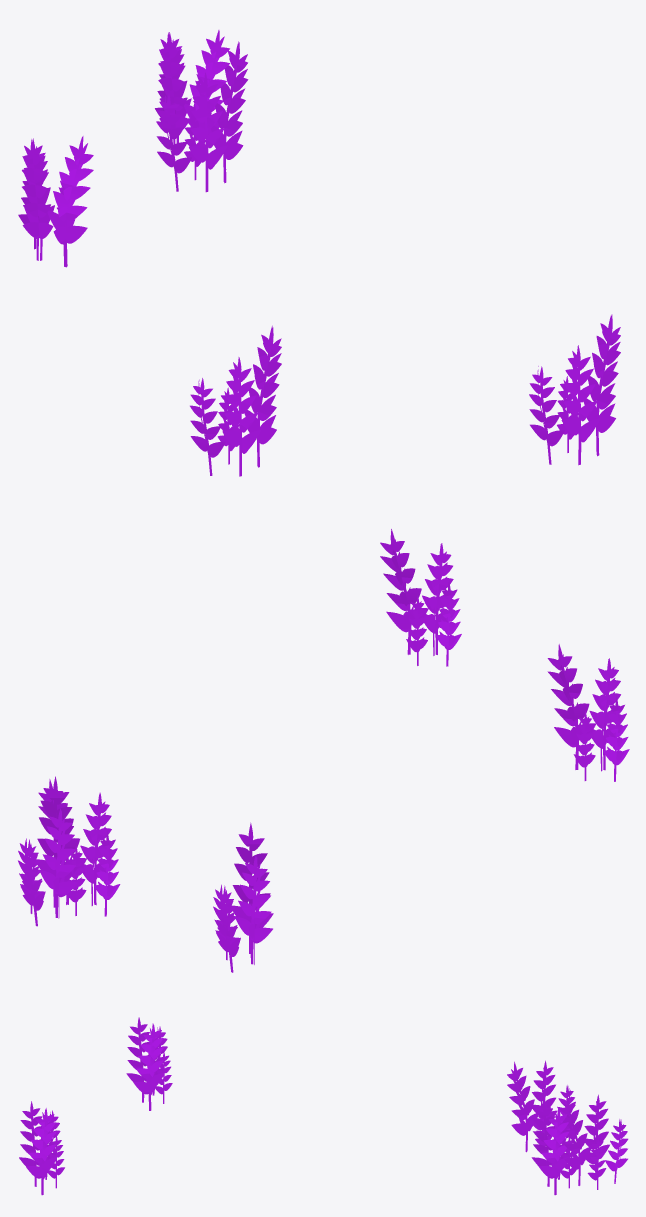
The model's file is apeflower.fbx.
The picture shows the model from 3 angles, top to bottom: view 1: azimuth 30°, elevation 25°; view 2: azimuth 150°, elevation 25°; view 3: azimuth 270°, elevation 25°; orthographic projection. The views are drawn at different scales.
Parts seen in each view (by area): view 1: Planties.005, Planties.001, Planties.004, Planties.002, Planties.003; view 2: Planties.001, Planties.005, Planties.003, Planties.002, Planties.004; view 3: Planties.003, Planties.001, Planties.005, Planties.002, Planties.004.
Part boxes in pixels (x1=…): Planties.005: x1=529, y1=314, x2=620, y2=465; Planties.001: x1=190, y1=325, x2=281, y2=476; Planties.004: x1=156, y1=41, x2=248, y2=192; Planties.002: x1=18, y1=136, x2=93, y2=267; Planties.003: x1=155, y1=30, x2=229, y2=144; Planties.001: x1=547, y1=644, x2=629, y2=781; Planties.005: x1=380, y1=529, x2=461, y2=666; Planties.003: x1=18, y1=776, x2=78, y2=926; Planties.002: x1=213, y1=822, x2=273, y2=972; Planties.004: x1=38, y1=779, x2=120, y2=916; Planties.003: x1=559, y1=1094, x2=628, y2=1189; Planties.001: x1=126, y1=1017, x2=172, y2=1110; Planties.005: x1=19, y1=1101, x2=64, y2=1195; Planties.002: x1=507, y1=1060, x2=575, y2=1152; Planties.004: x1=531, y1=1101, x2=576, y2=1195.
Bounding box in the file's own units: 628 × 292 × 1341.
